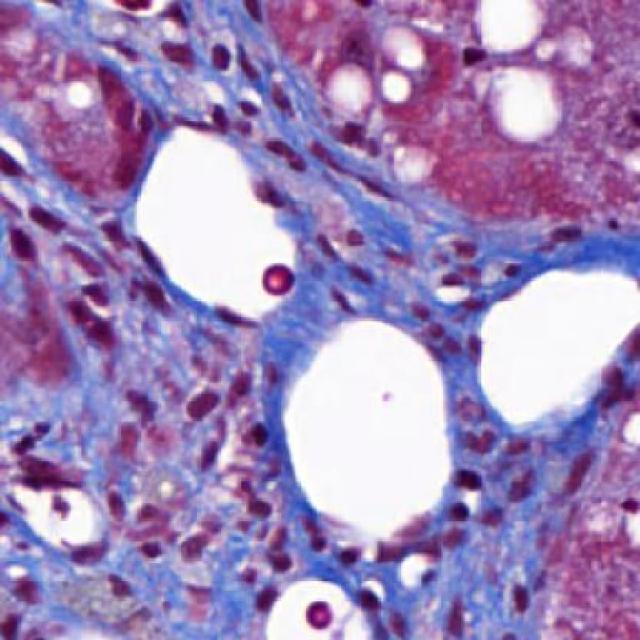inflammation: (54, 274, 131, 361), (234, 491, 308, 579), (172, 374, 238, 434), (426, 256, 486, 310), (201, 26, 244, 83)
